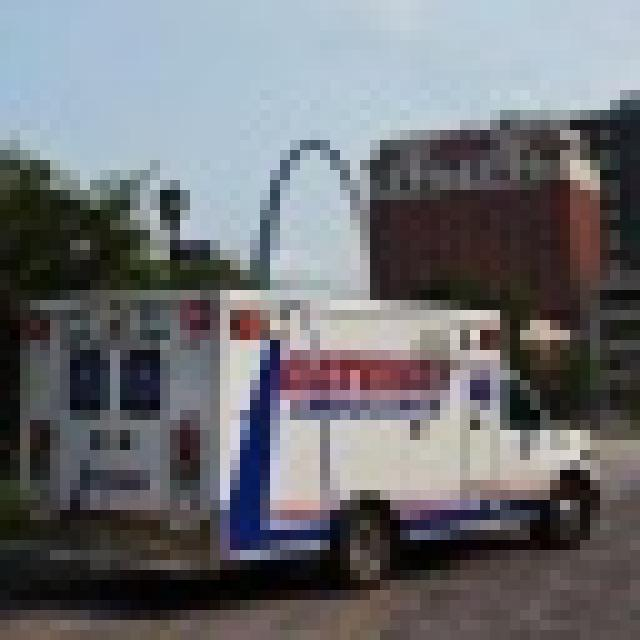Ambulance: (10, 280, 600, 580)
